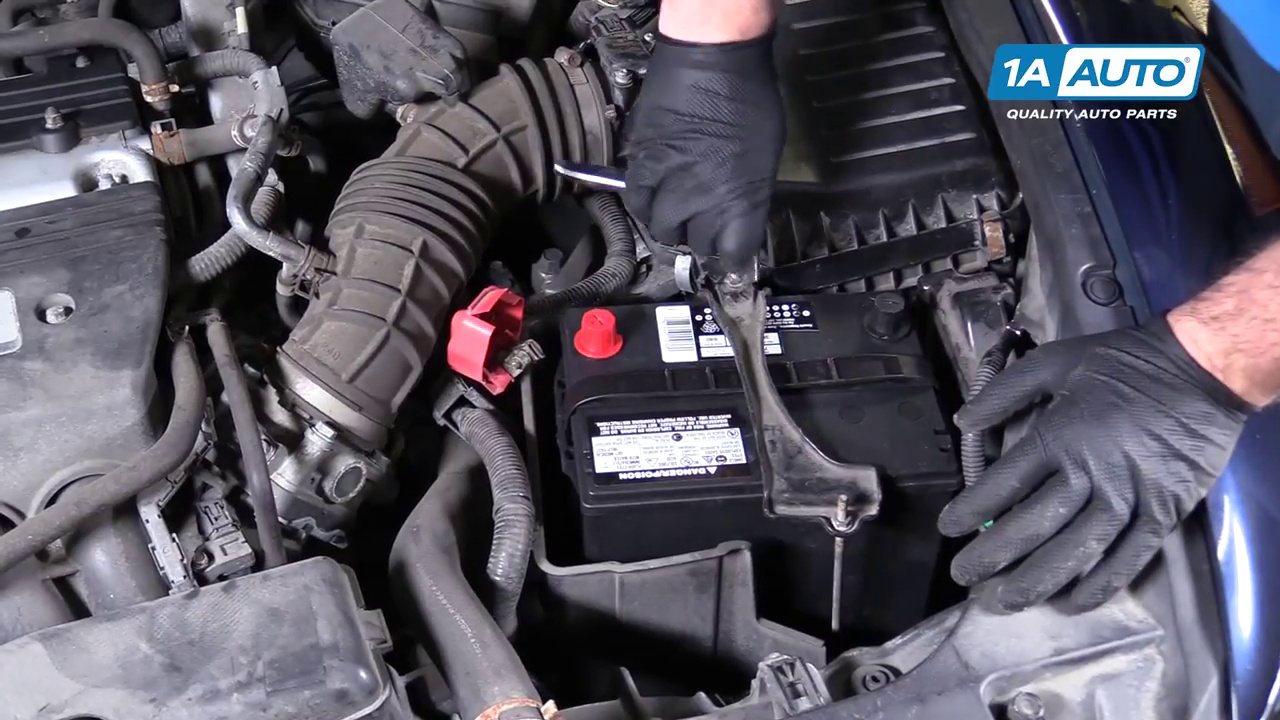battery: (557, 281, 958, 490)
pos_disconnected: (438, 269, 631, 399)
